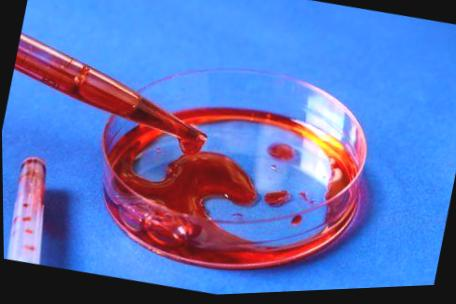Fire: (13, 34, 367, 272)
